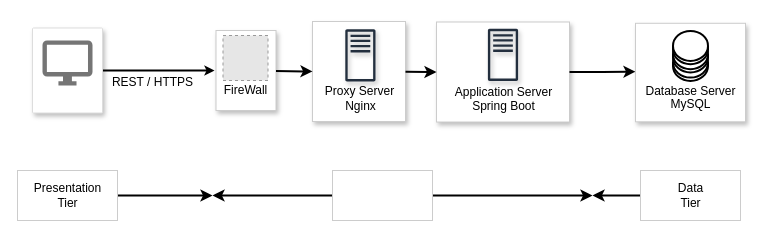
This 769x238 diagram has some shape labels left out. Grey dashed boxes stand in for pictures. Here are the shapes that lost their labels. From the top down, the centre of each, then its label:
point 68,71: Client
point 382,195: Application Tier
